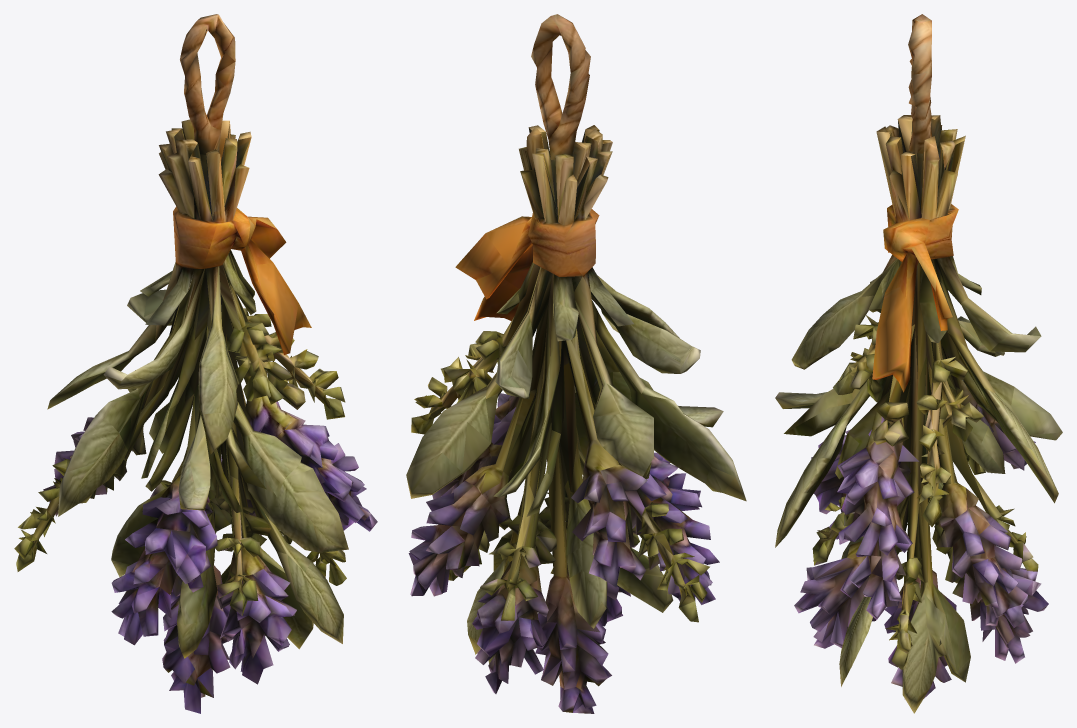
The model's file is lavender.glb.
3 renders of one model, left to right at view 1: azimuth 30°, elevation 25°; view 2: azimuth 150°, elevation 25°; view 3: azimuth 270°, elevation 25°, orthographic.
Parts seen in each view (by area): view 1: tripo_node_08cb27f0-4c8f-4fd7-a540-6e4511795684; view 2: tripo_node_08cb27f0-4c8f-4fd7-a540-6e4511795684; view 3: tripo_node_08cb27f0-4c8f-4fd7-a540-6e4511795684.
Boxes of the visible parts, box(x1,y1,x2,y2) form: tripo_node_08cb27f0-4c8f-4fd7-a540-6e4511795684: box(14, 14, 377, 713); tripo_node_08cb27f0-4c8f-4fd7-a540-6e4511795684: box(406, 14, 746, 713); tripo_node_08cb27f0-4c8f-4fd7-a540-6e4511795684: box(775, 14, 1062, 713).
Bounding box in the file's own units: 0.1913 × 0.4 × 0.1512.
1 material, 1 textured.
